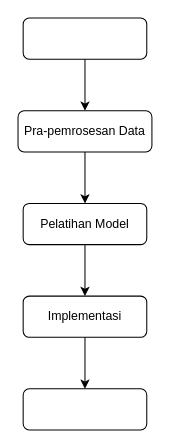
This 170x448 diagram has some shape labels left out. The box of each missing label's shape, as (x1, y1, x2, y2) in pixels:
Analisis Hasil: (22, 388, 147, 430)
Pengumpulan Data: (22, 17, 147, 59)
